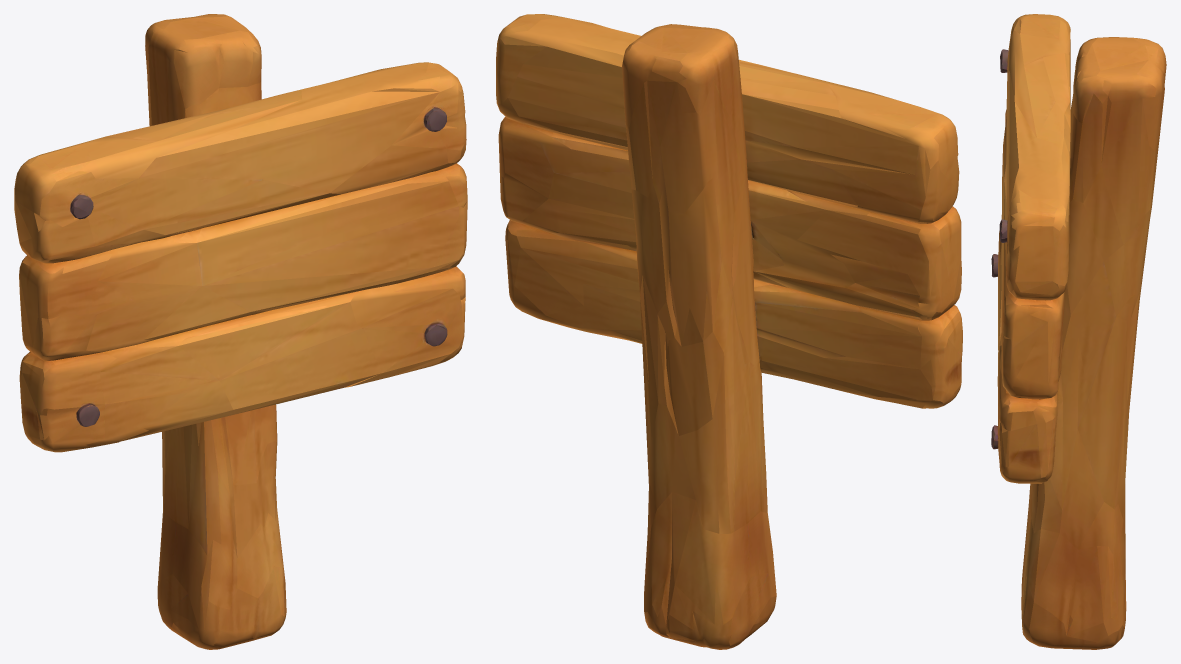
File: gappu_sign.glb
3 views of the same model, side by side, from view 1: azimuth 30°, elevation 25°; view 2: azimuth 150°, elevation 25°; view 3: azimuth 270°, elevation 25° (orthographic). The views are drawn at different scales.
Bounding box in the file's own units: 1.45 × 1.9 × 0.5174.
1 material, 1 textured.
